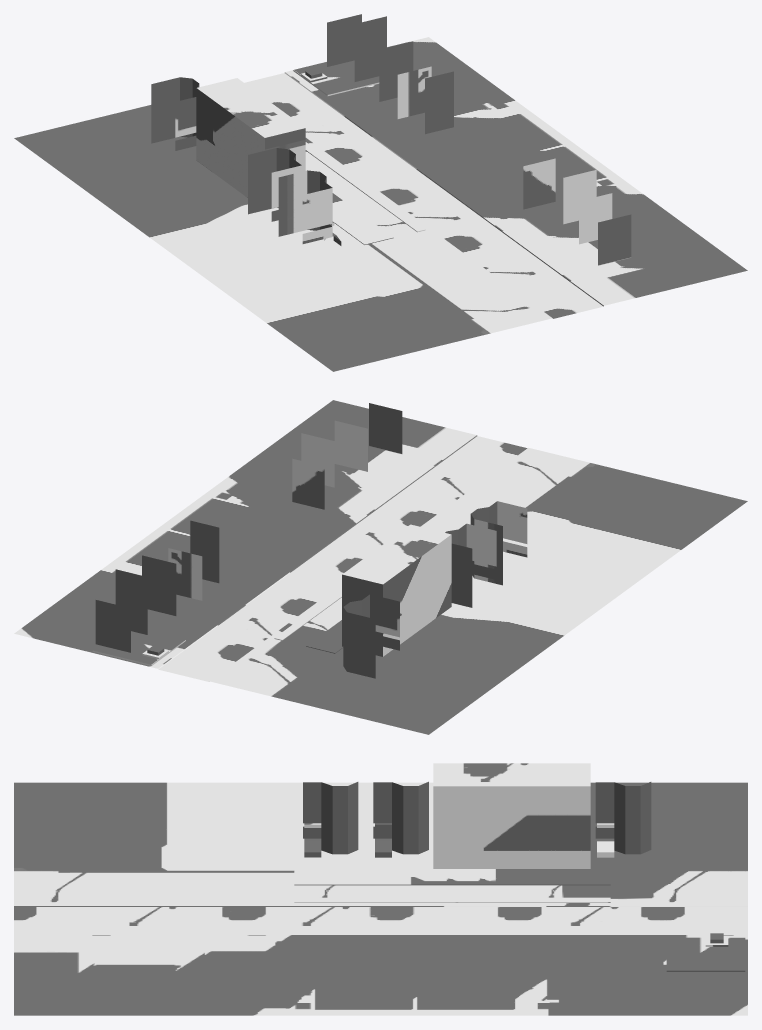
File: shadow 02.fbx
3 renders of one model, top to bottom at view 1: azimuth 30°, elevation 25°; view 2: azimuth 150°, elevation 25°; view 3: azimuth 270°, elevation 25°, orthographic. The views are drawn at different scales.
Parts seen in each view (by area): view 1: shadow 02; view 2: shadow 02; view 3: shadow 02.
Boxes of the visible parts, x1,y1,x2,y2 form: shadow 02: [14, 14, 747, 371]; shadow 02: [14, 400, 747, 734]; shadow 02: [14, 763, 747, 1015].
Bounding box in the file's own units: 3858 × 662 × 5142.
